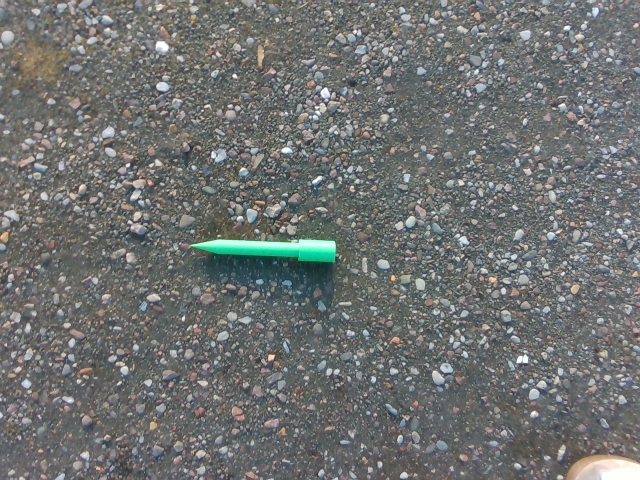Probe: (184, 235, 339, 267)
